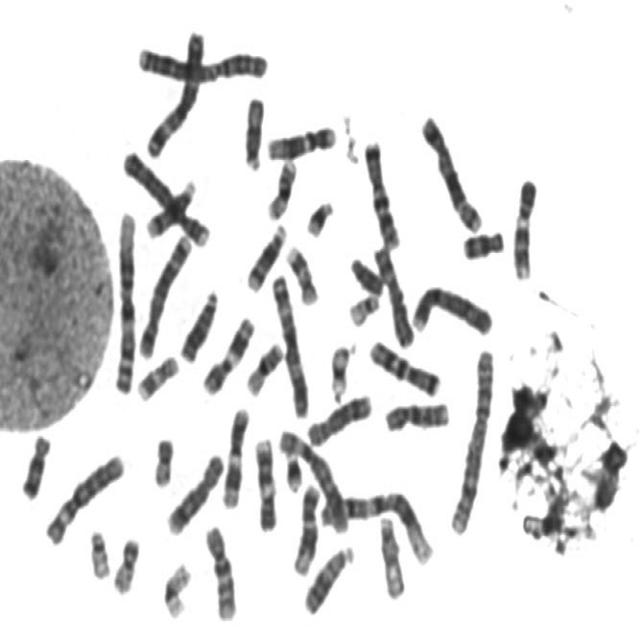A1: (314, 480, 438, 568), (109, 202, 140, 396)
A2: (445, 339, 497, 536), (132, 34, 272, 86)
A3: (141, 19, 208, 159), (267, 264, 312, 418)
B4: (117, 139, 213, 249), (407, 275, 495, 336)
B5: (416, 104, 486, 234), (133, 223, 194, 360)
C10: (199, 514, 241, 624), (380, 391, 453, 434)
C11: (198, 306, 258, 397), (218, 398, 252, 510)
C12: (262, 116, 340, 162), (288, 475, 322, 577)
C6: (39, 443, 128, 547), (274, 418, 351, 534)
C7: (364, 330, 444, 398), (359, 130, 404, 250)
C8: (162, 443, 226, 536), (301, 383, 376, 448)
C9: (509, 168, 541, 282), (250, 428, 280, 533)
D13: (298, 536, 358, 617), (174, 279, 220, 364)
D14: (141, 170, 200, 239), (241, 213, 290, 293)
D15: (373, 506, 408, 600), (239, 86, 268, 172)
E16: (242, 332, 287, 398), (262, 149, 300, 222)
E17: (281, 236, 322, 306), (132, 346, 182, 402)
E18: (15, 424, 54, 502), (458, 219, 508, 261)
F19: (157, 552, 195, 621), (324, 332, 357, 402)
F20: (107, 527, 143, 596), (148, 426, 177, 489)
G21: (301, 189, 338, 238), (279, 440, 305, 494)
G22: (84, 520, 113, 581), (343, 284, 383, 328)
X: (368, 237, 416, 350)
Y: (345, 248, 387, 296)
